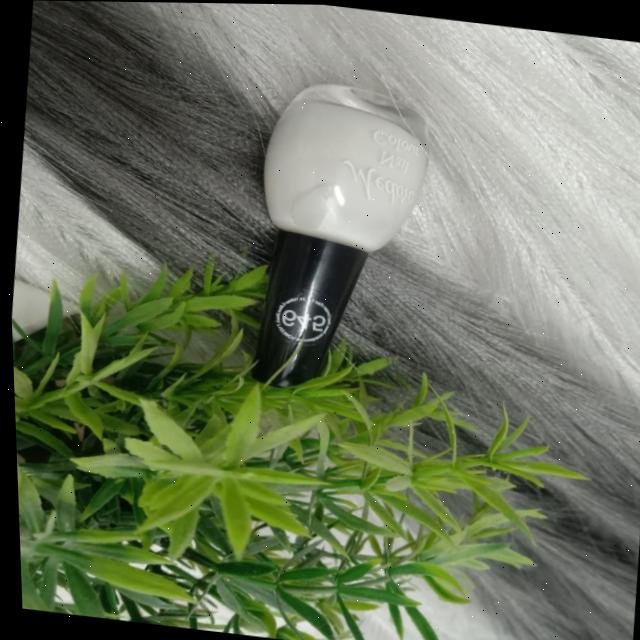nail polish: (205, 58, 471, 427)
